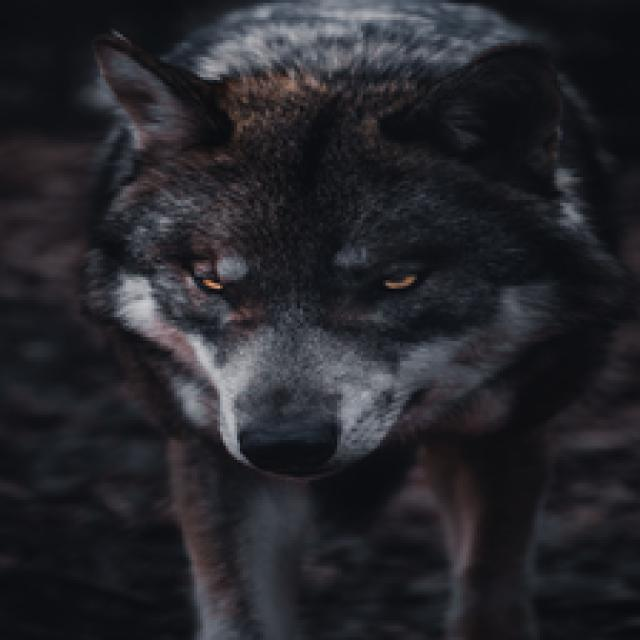wolf: (60, 0, 612, 640)
